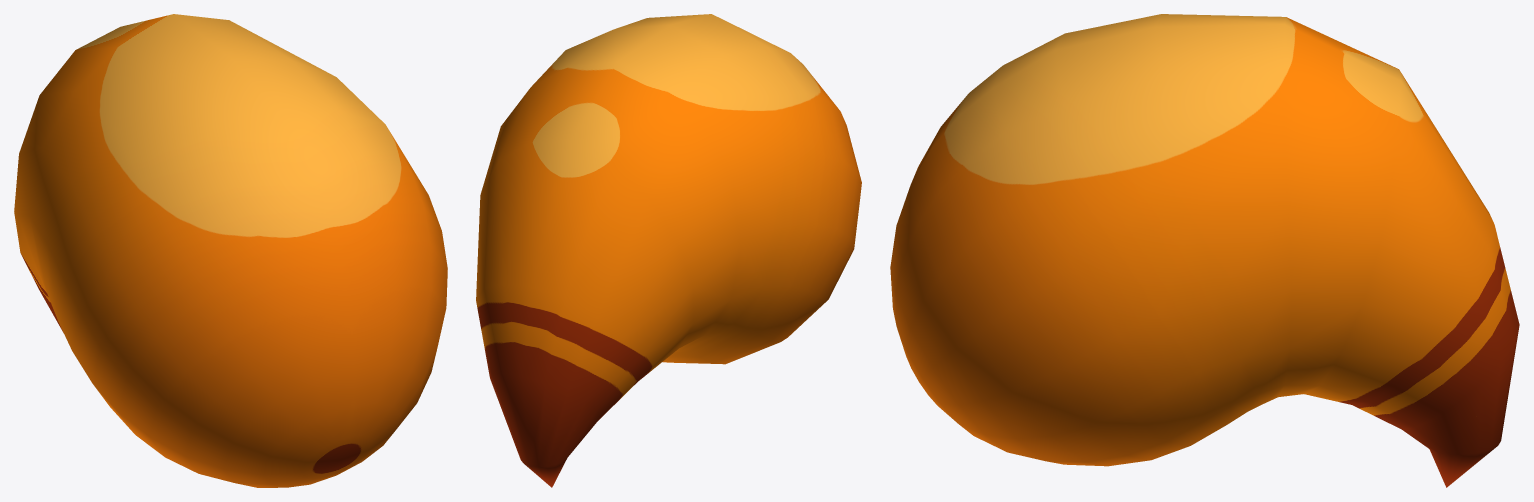
The model's file is Spider_002_Body.fbx.
3 renders of one model, left to right at view 1: azimuth 30°, elevation 25°; view 2: azimuth 150°, elevation 25°; view 3: azimuth 270°, elevation 25°, orthographic. The views are drawn at different scales.
Visible parts, largest first — view 1: Body; view 2: Body; view 3: Body.
Boxes of the visible parts, bbox=[...] form: Body: bbox=[14, 14, 447, 487]; Body: bbox=[476, 14, 861, 487]; Body: bbox=[890, 14, 1519, 487].
Bounding box in the file's own units: 53.74 × 64.35 × 79.21.
